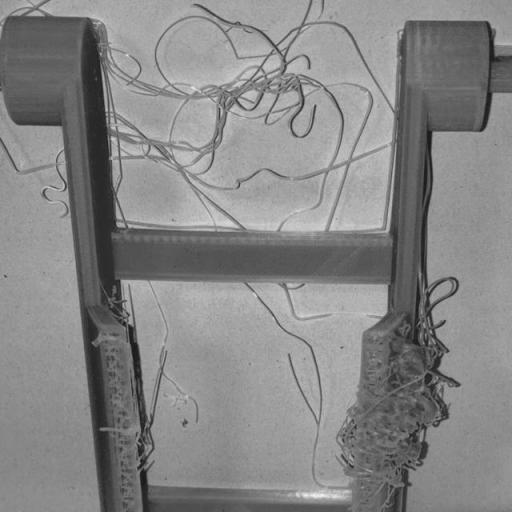spaghetti_and_stringing: (162, 62, 332, 151), (341, 330, 434, 473), (318, 73, 380, 214), (221, 14, 301, 70), (116, 134, 206, 182)
